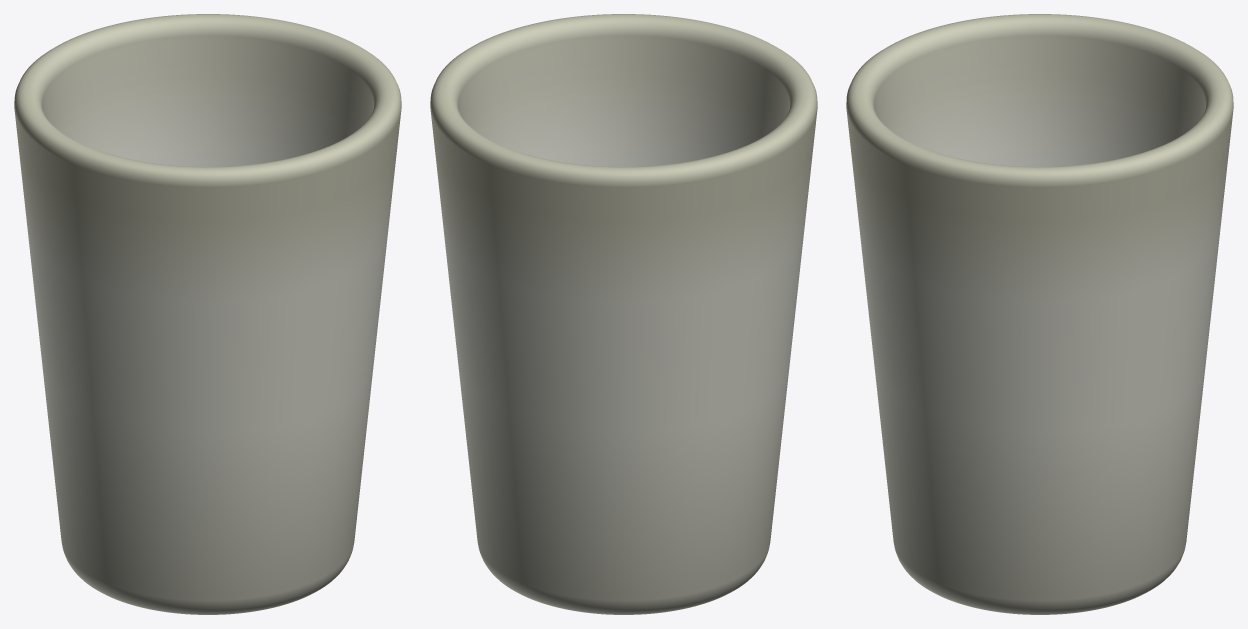
Rendered from shot_glass.glb.
3 renders of one model, left to right at view 1: azimuth 30°, elevation 25°; view 2: azimuth 150°, elevation 25°; view 3: azimuth 270°, elevation 25°, orthographic.
Visible parts, largest first — view 1: Cylinder; view 2: Cylinder; view 3: Cylinder.
Boxes of the visible parts, <box> form: Cylinder: <box>14,14,401,614</box>; Cylinder: <box>430,14,817,614</box>; Cylinder: <box>846,14,1233,614</box>.
Bounding box in the file's own units: 0.045 × 0.06 × 0.045.
1 material, 1 textured.
